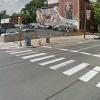Crosswalk: (5, 42, 100, 92)
